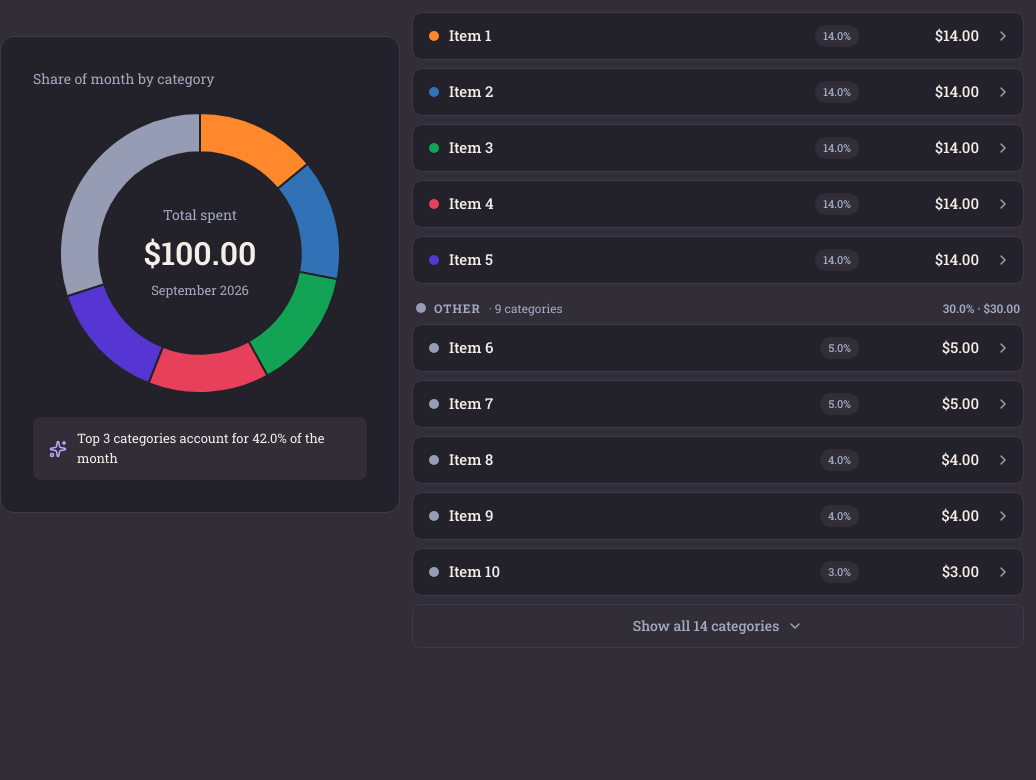
it: BreakdownContent – Other group › selects Other from a row inside the group and highlights them all (AC-08)
What coordinates should you click on to do the following:
click the button "Item 6 5.0% $5.00"
I would click on:
 (471, 347)
Its box is x1=413 y1=325 x2=987 y2=371.
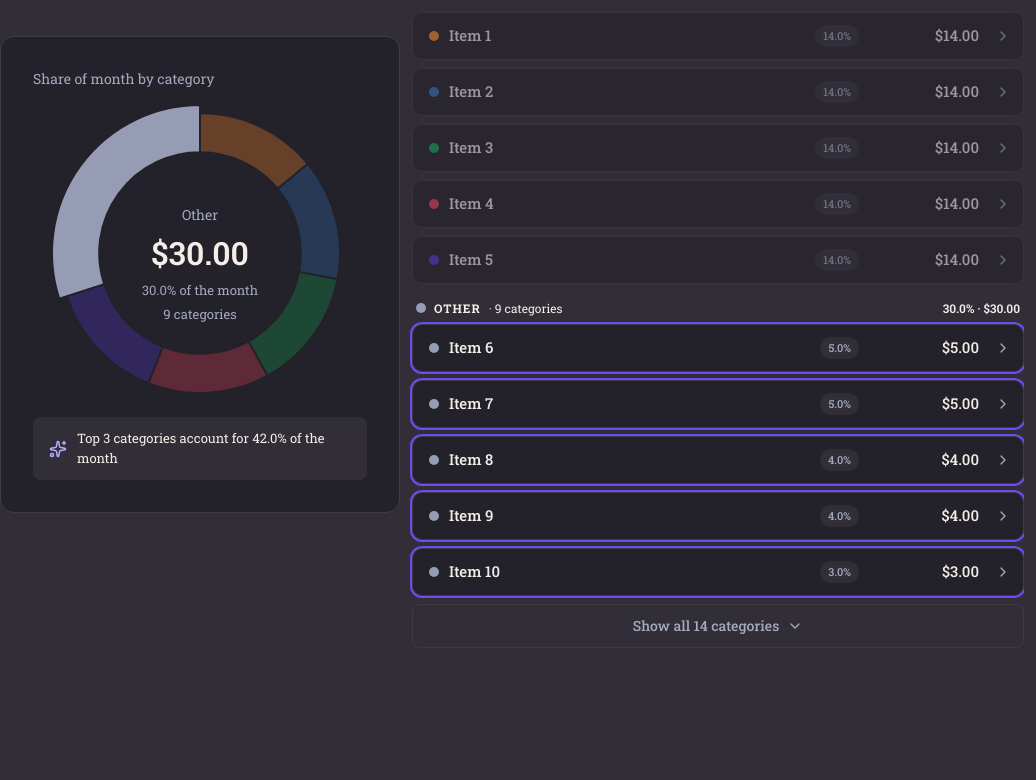
Now the text "Other" is shown, box x1=182 y1=205 x2=218 y2=225
Now the text "30.0% of the month" is shown, box x1=142 y1=281 x2=258 y2=301
